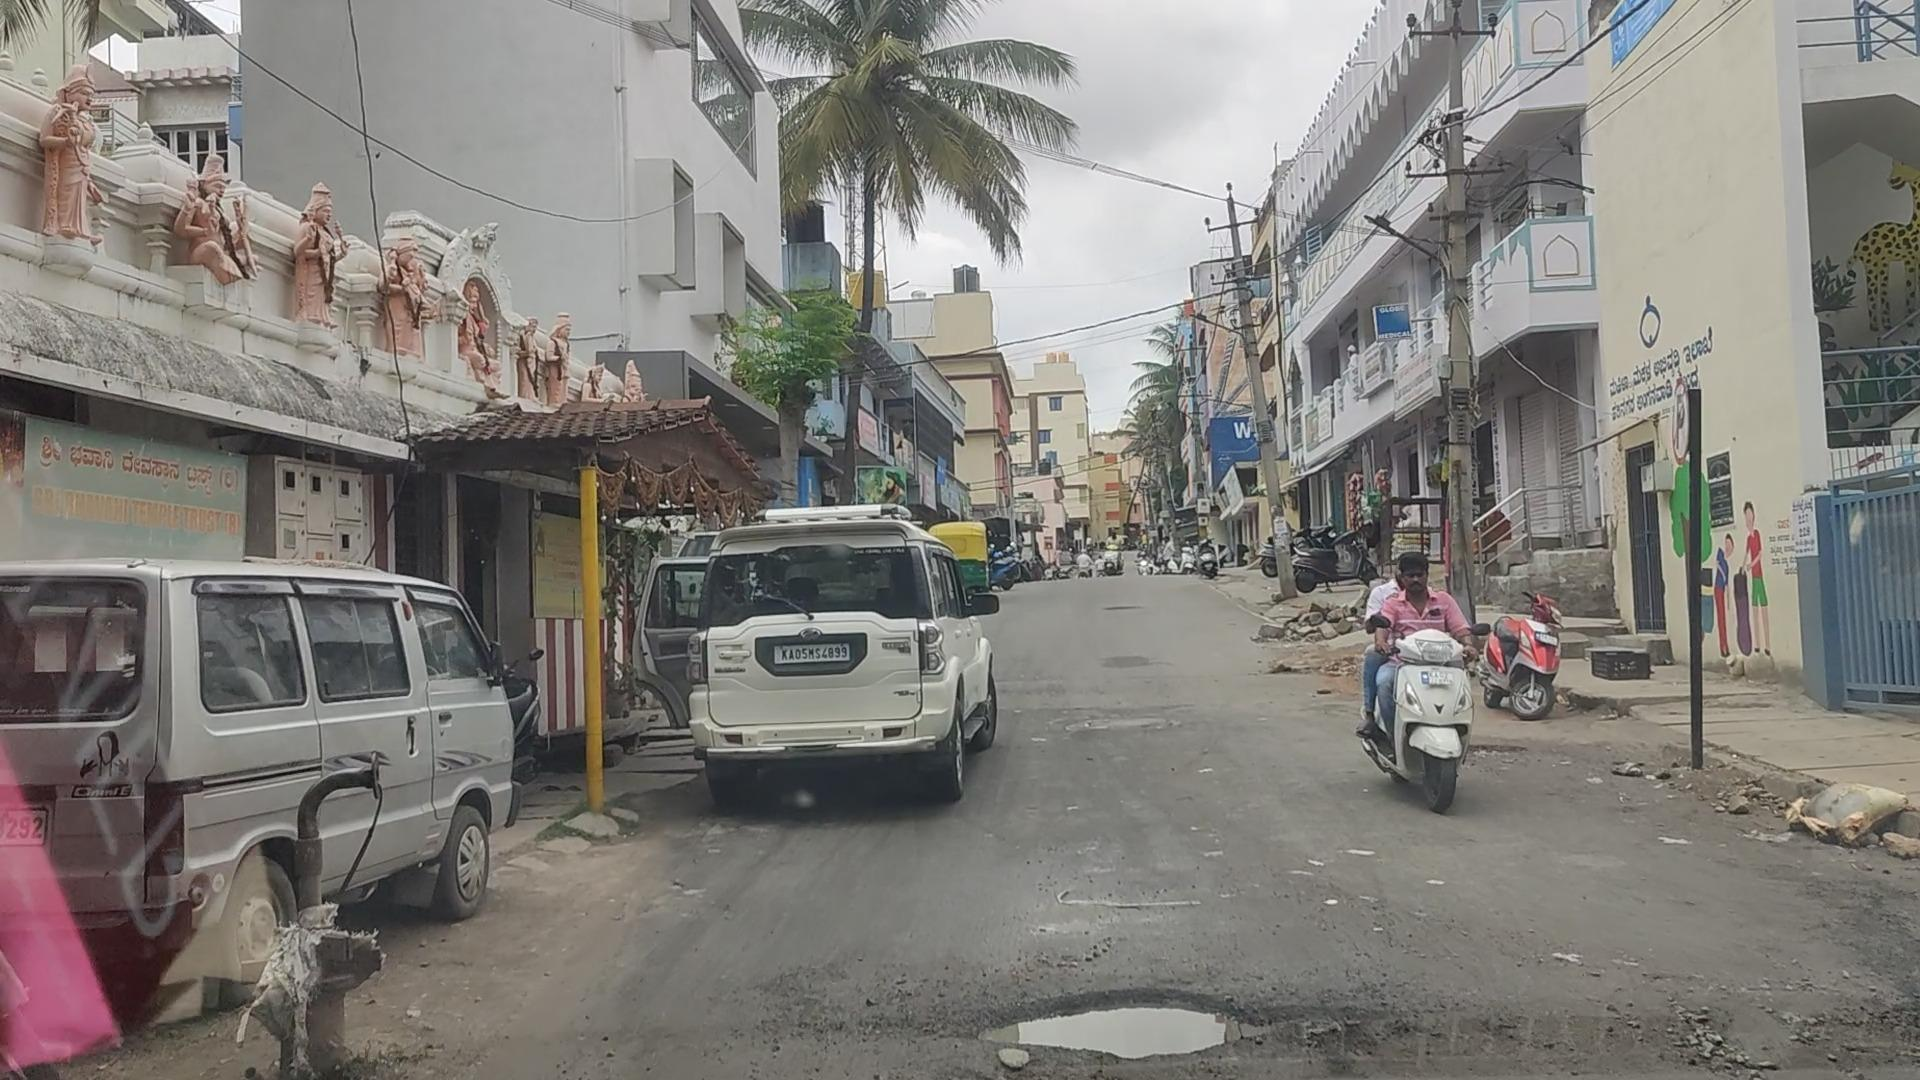LMV: (1361, 551, 1489, 803)
RoadDamages: (947, 971, 1312, 1069)
